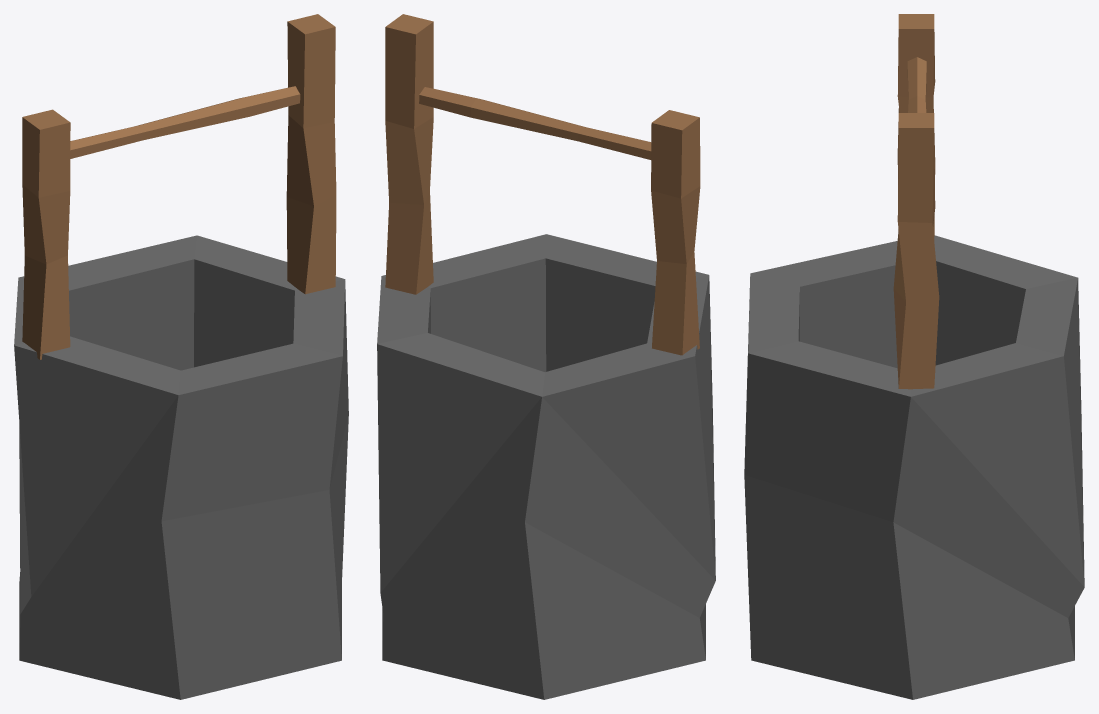
File: Fountain_1.fbx
3 renders of one model, left to right at view 1: azimuth 30°, elevation 25°; view 2: azimuth 150°, elevation 25°; view 3: azimuth 270°, elevation 25°, orthographic.
Visible parts, largest first — view 1: Fountain_mesh; view 2: Fountain_mesh; view 3: Fountain_mesh.
Boxes of the visible parts, box(x1,y1,x2,y2) form: Fountain_mesh: box(14, 14, 348, 699); Fountain_mesh: box(377, 14, 715, 699); Fountain_mesh: box(744, 14, 1084, 699).
Bounding box in the file's own units: 138 × 229 × 125.
